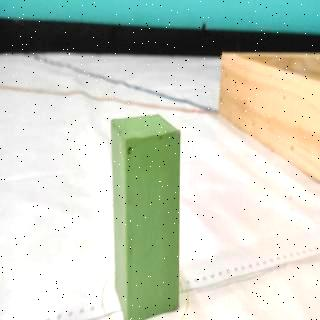greenbox: (110, 114, 182, 320)
